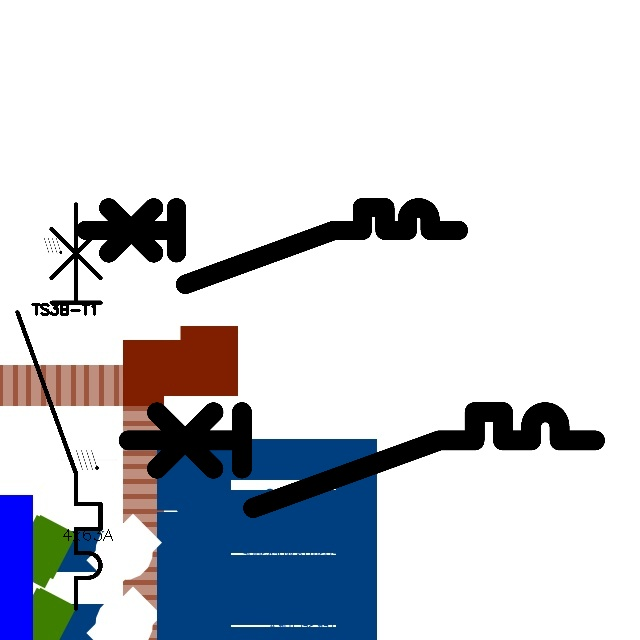interruptor_termomagnetico: (116, 400, 607, 520), (7, 194, 111, 619), (76, 198, 468, 294)
